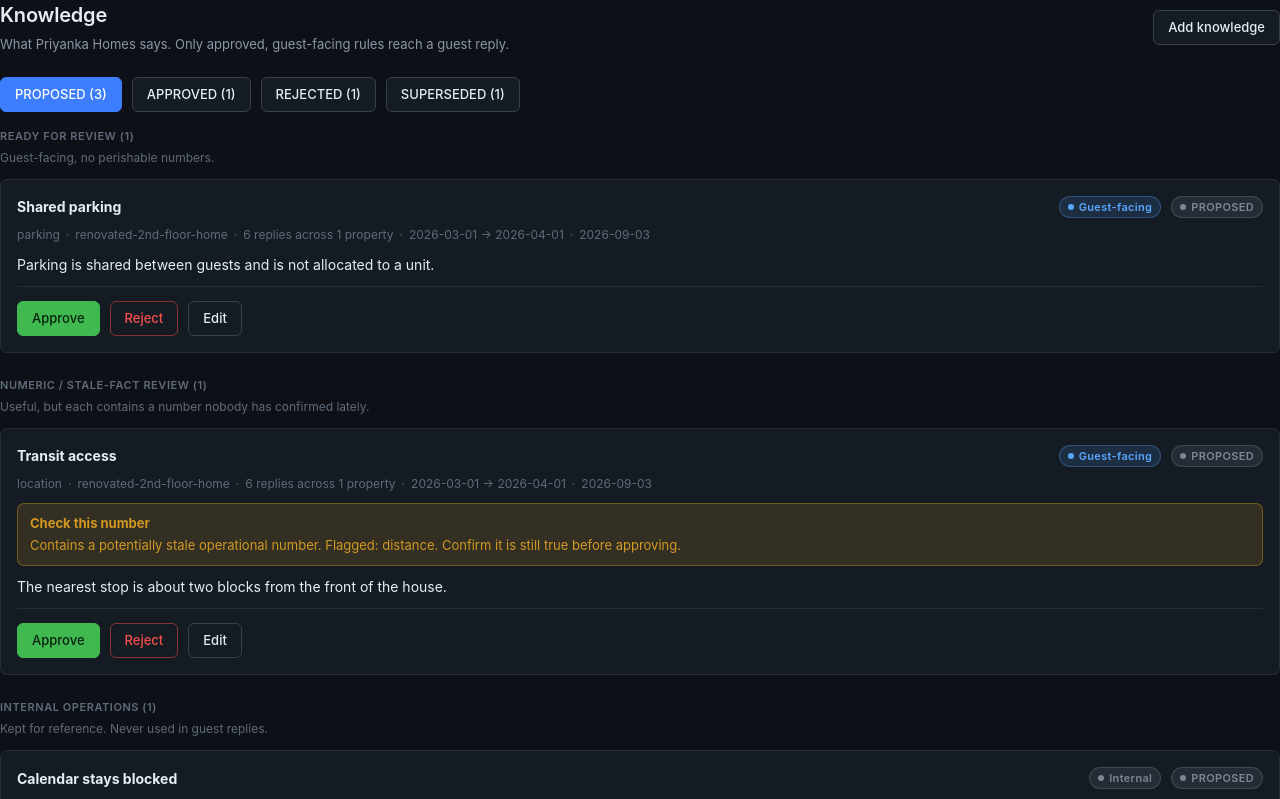
Test case: KnowledgePage › reports a refused decision without leaking server detail
Click the button "Approve" below "Shared parking" at (58, 318), box [17,301,100,336]
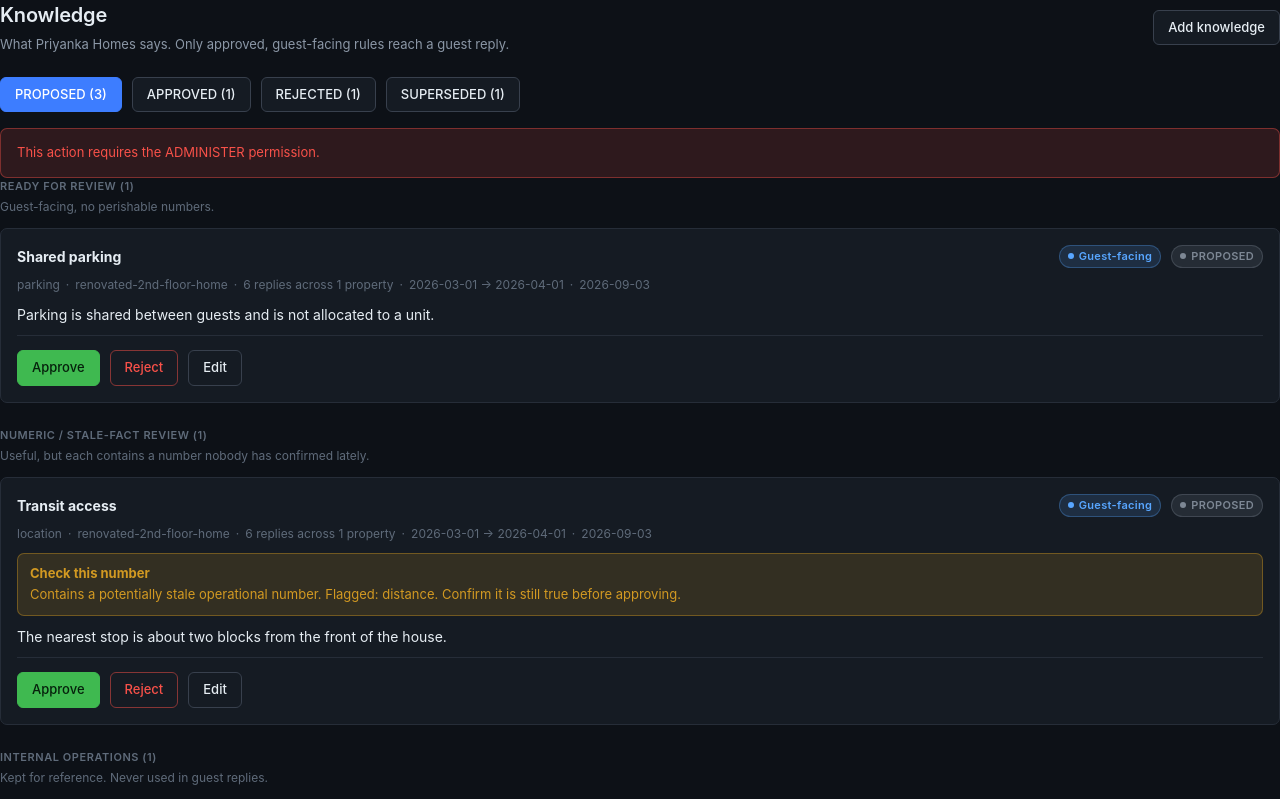
Expected: the message reads "This action requires the ADMINISTER permission.", [17,144,320,160]
